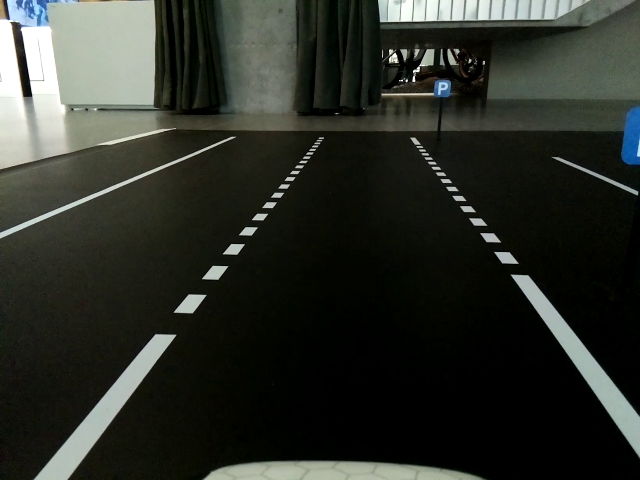park: (624, 110, 640, 161), (434, 80, 450, 96)
